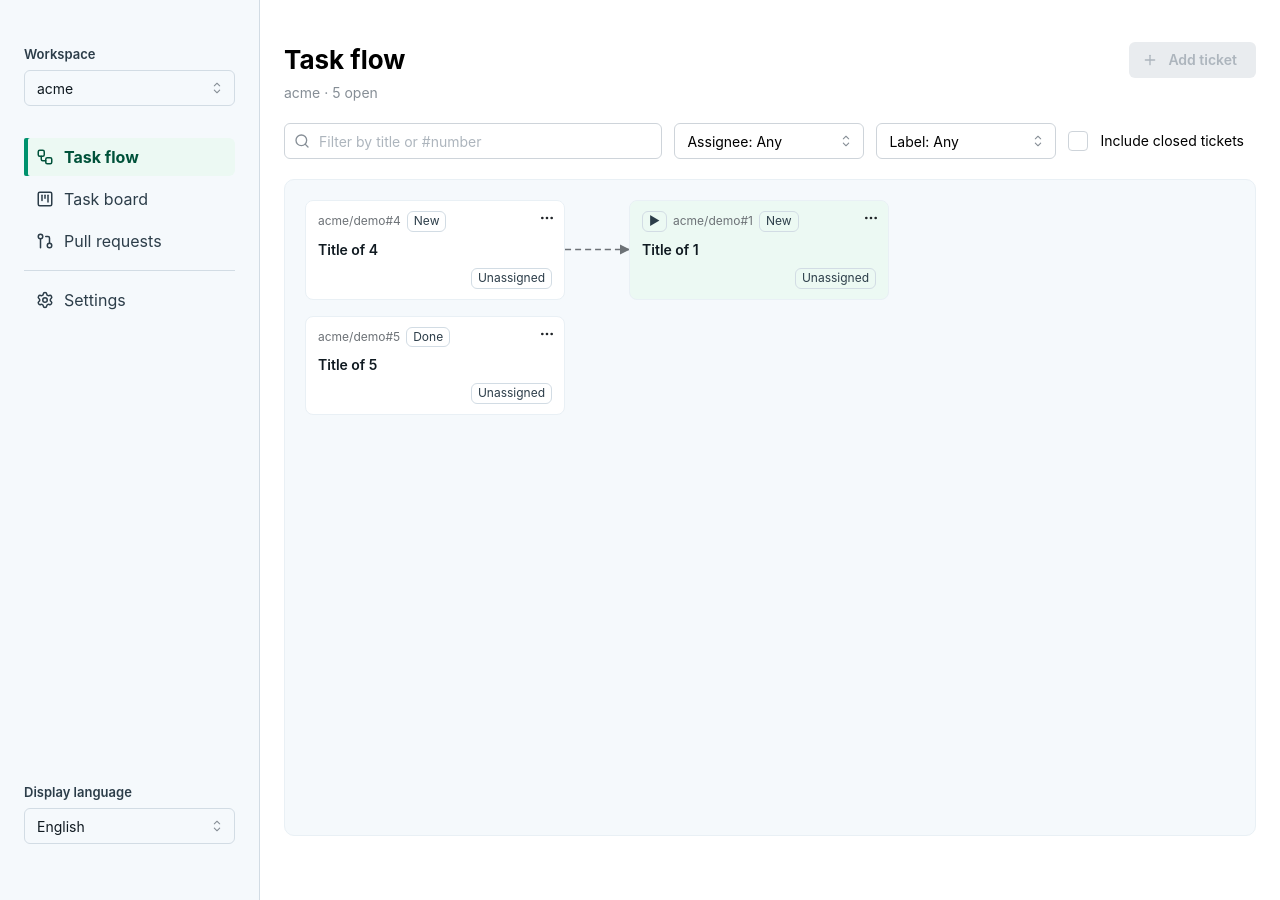
Test: relations › opens a ticket in a drawer over the figure, at the figure's URL
Click the link "Title of 5".
click(348, 365)  # box [318,356,377,373]
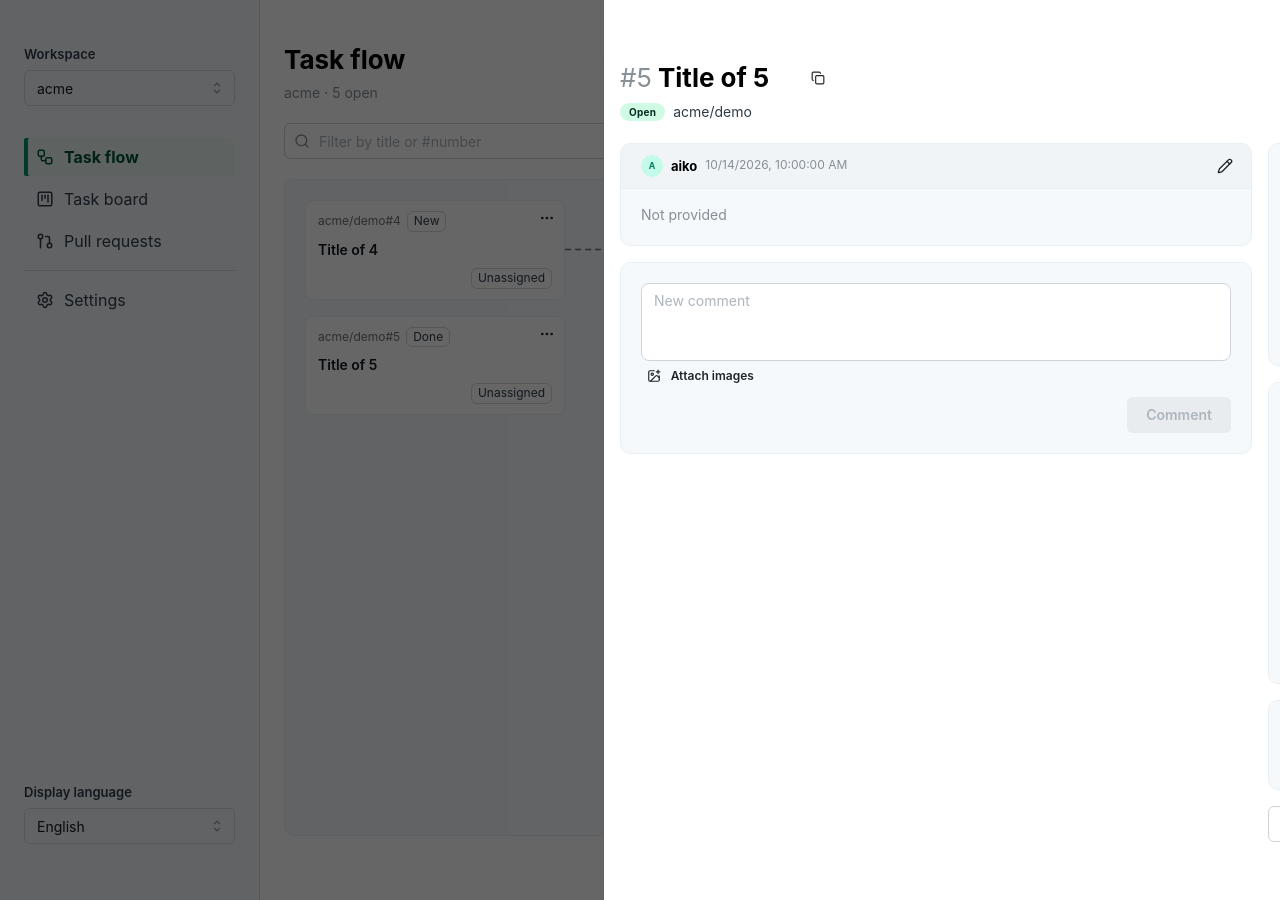
Expected: the heading reads "#5 Title of 5", [620,62,769,93]
